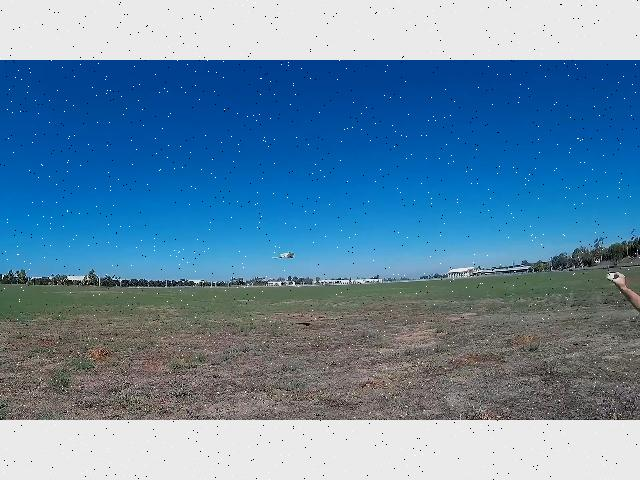Anti-Drone: (272, 252, 294, 258)
